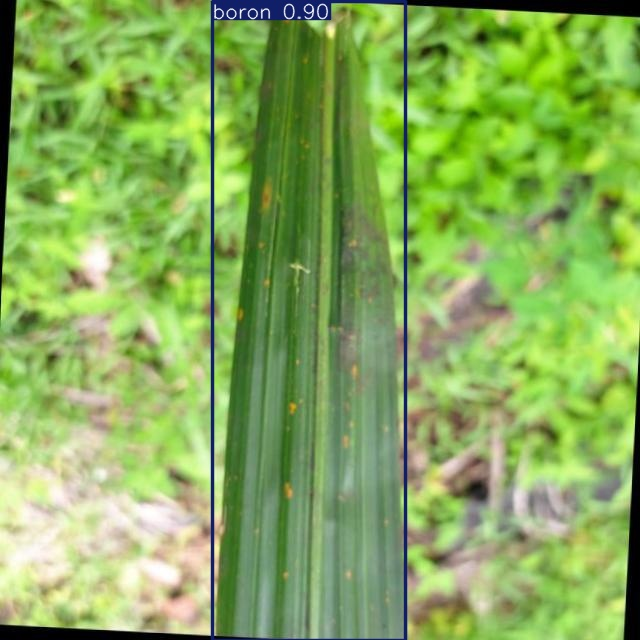nitrogen: (213, 2, 405, 640)
